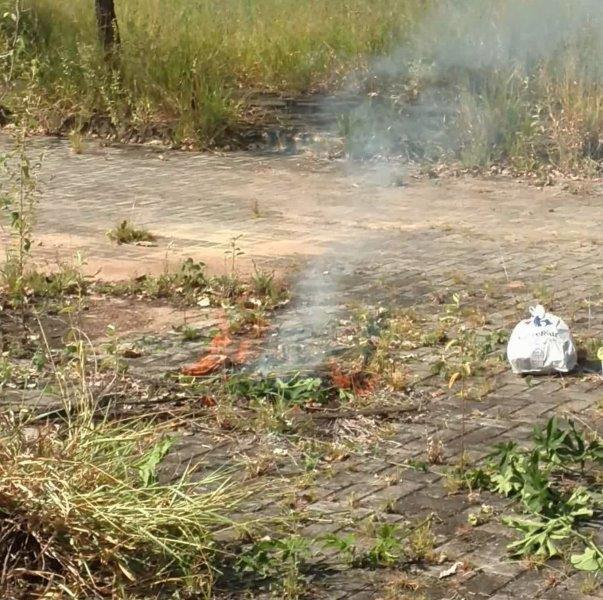smoke: (449, 16, 561, 60), (281, 274, 326, 377)
